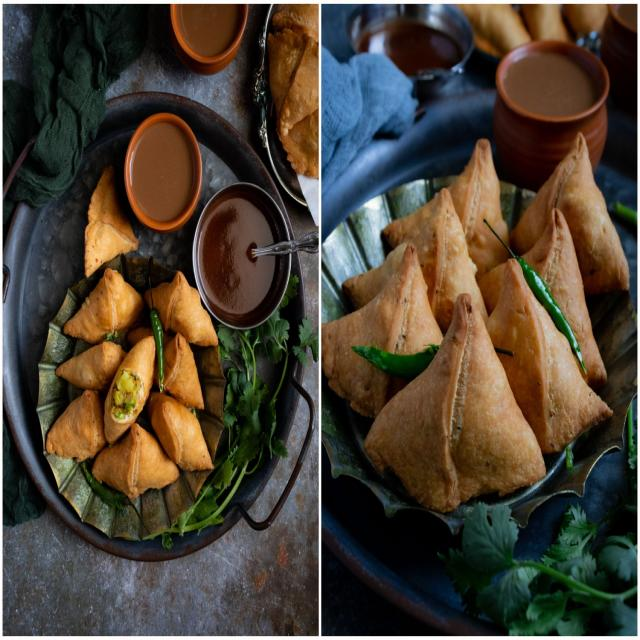SAMOSA: (365, 293, 545, 510), (485, 259, 611, 453), (322, 245, 442, 418), (509, 134, 629, 294), (522, 208, 606, 388), (387, 190, 487, 333), (447, 140, 509, 278), (92, 424, 179, 499), (64, 268, 145, 343), (84, 166, 137, 276), (104, 335, 155, 444), (144, 271, 217, 346), (147, 393, 213, 470), (46, 390, 106, 461), (55, 342, 126, 390), (163, 333, 204, 408), (107, 307, 112, 312)
